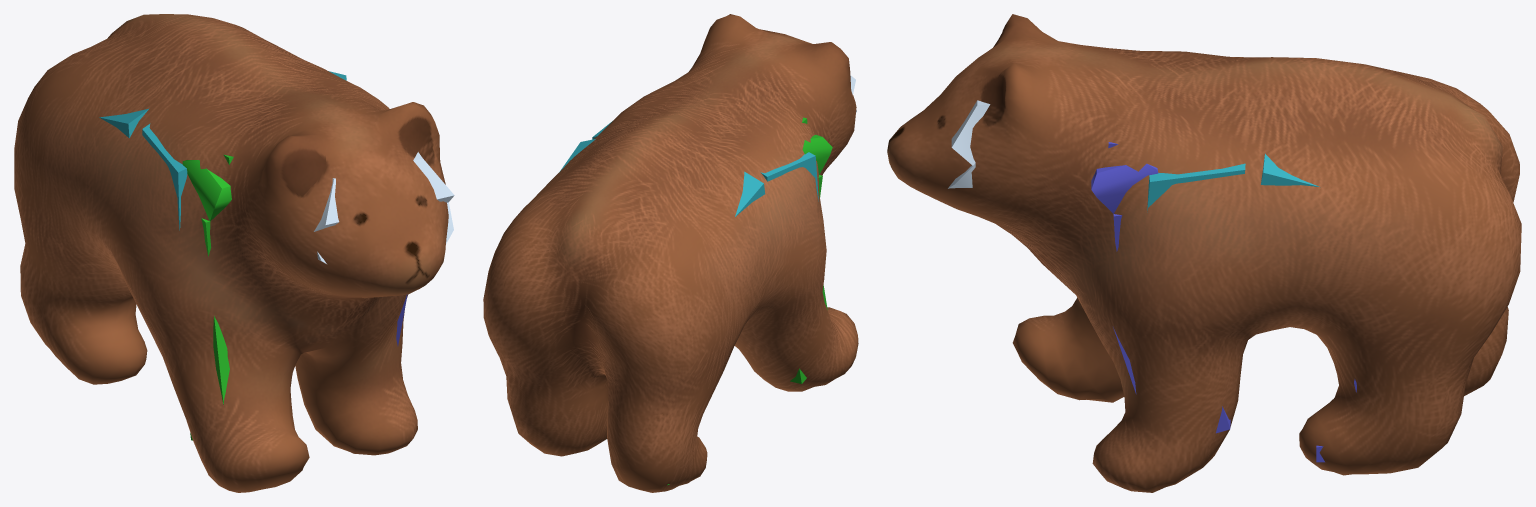
File: bear-walking.glb
3 views of the same model, side by side, from view 1: azimuth 30°, elevation 25°; view 2: azimuth 150°, elevation 25°; view 3: azimuth 270°, elevation 25° (orthographic). The views are drawn at different scales.
Parts seen in each view (by area): view 1: lp_1502, Bip001 R UpperArm, Bip001 Head, Bip001 Spine1, Bip001 R Hand, Bip001 Spine; view 2: lp_1502, Bip001 Spine, Bip001 Spine1, Bip001 R UpperArm; view 3: lp_1502, Bip001 L UpperArm, Bip001 Head, Bip001 Spine1, Bip001 Spine.
Part boxes in pixels (x1,y1,x2,y2): lp_1502: (14,14,448,492); Bip001 R UpperArm: (182,160,231,221); Bip001 Head: (314,152,454,263); Bip001 Spine1: (142,123,187,230); Bip001 R Hand: (190,316,229,440); Bip001 Spine: (99,71,346,138); lp_1502: (483,14,858,492); Bip001 Spine: (559,139,765,216); Bip001 Spine1: (592,121,818,201); Bip001 R UpperArm: (802,135,832,174); lp_1502: (887,14,1521,492); Bip001 L UpperArm: (1091,163,1158,213); Bip001 Head: (948,100,990,188); Bip001 Spine1: (1147,163,1245,212); Bip001 Spine: (1261,153,1320,187).
Size of the model in its own units: 0.4346 by 0.6123 by 0.8734.
Materials: 25 (1 with a texture image).
